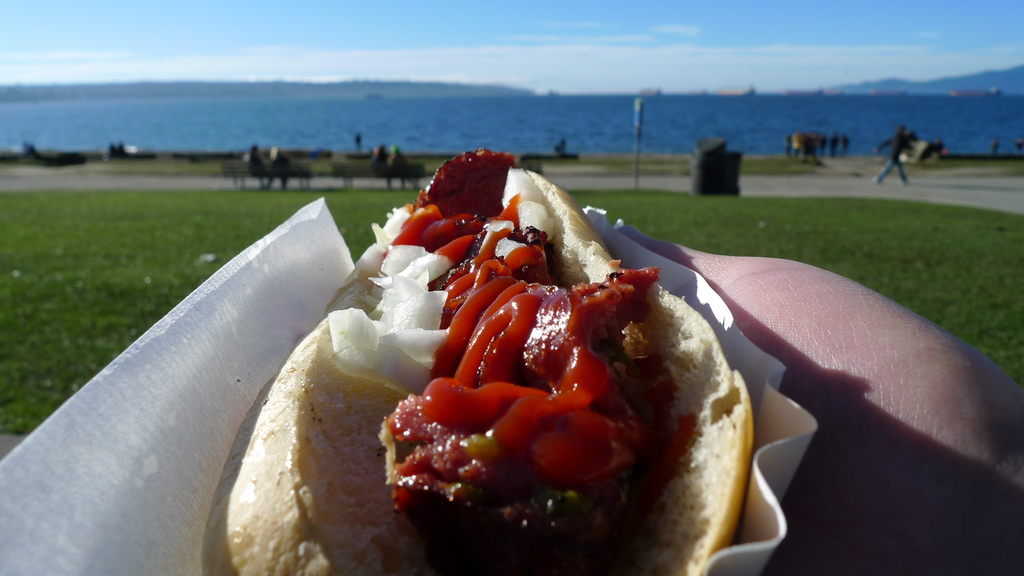hot_dog: (285, 167, 792, 576)
